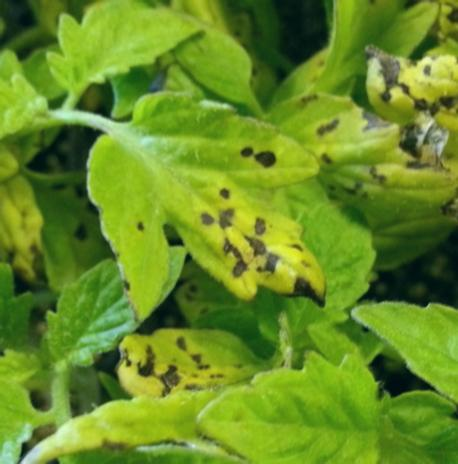Tomato leaf: (26, 5, 212, 90)
Tomato leaf bacterial spot: (67, 89, 329, 317), (97, 321, 288, 402)
